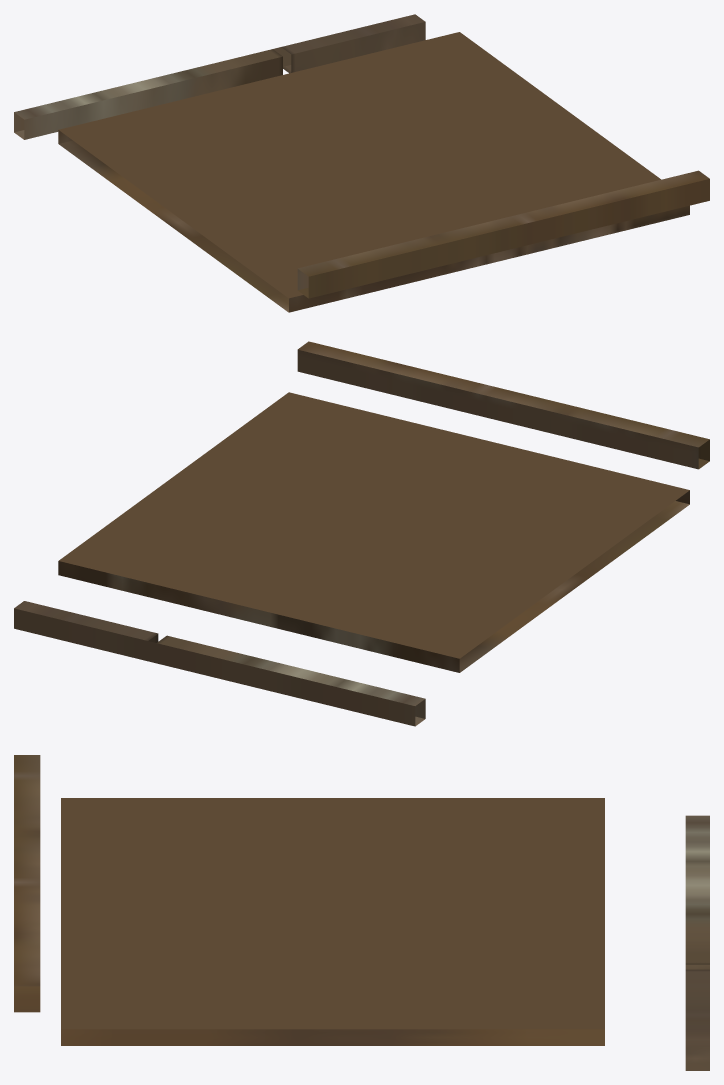
File: section-6.obj
The picture shows the model from 3 angles, top to bottom: view 1: azimuth 30°, elevation 25°; view 2: azimuth 150°, elevation 25°; view 3: azimuth 270°, elevation 25°; orthographic projection. The views are drawn at different scales.
Bounding box in the file's own units: 1 × 0.1703 × 1.27.
